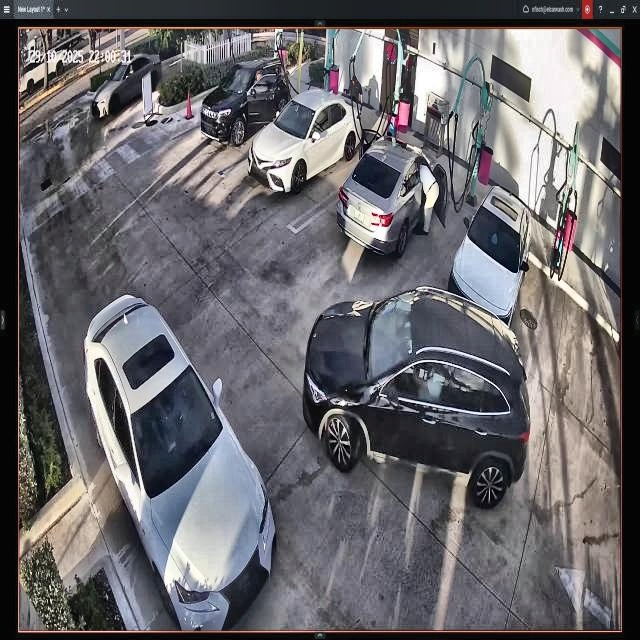Car: (82, 299, 276, 632), (302, 289, 529, 506), (337, 130, 447, 258), (248, 89, 363, 195), (449, 185, 532, 328), (200, 57, 290, 144)
